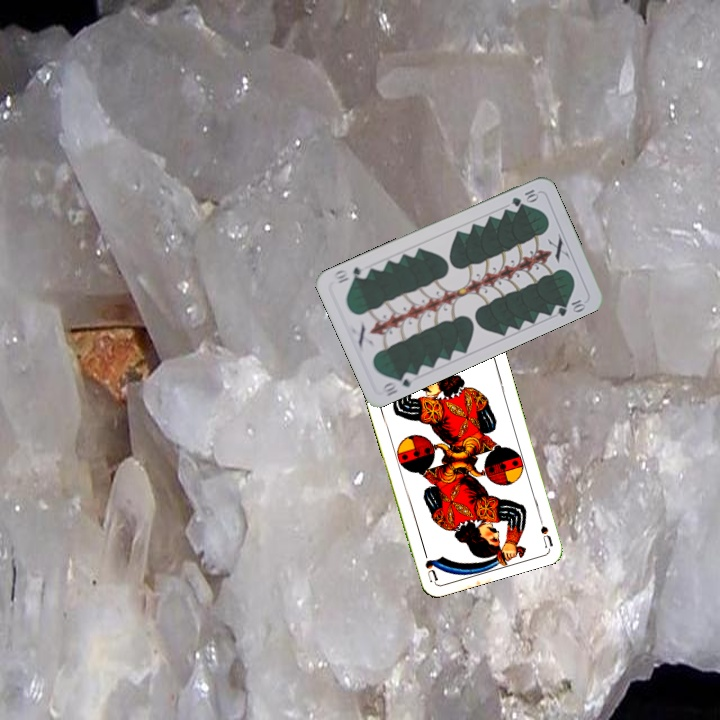G10: (377, 368, 418, 399), (508, 185, 541, 209)
SU: (534, 508, 555, 549)
